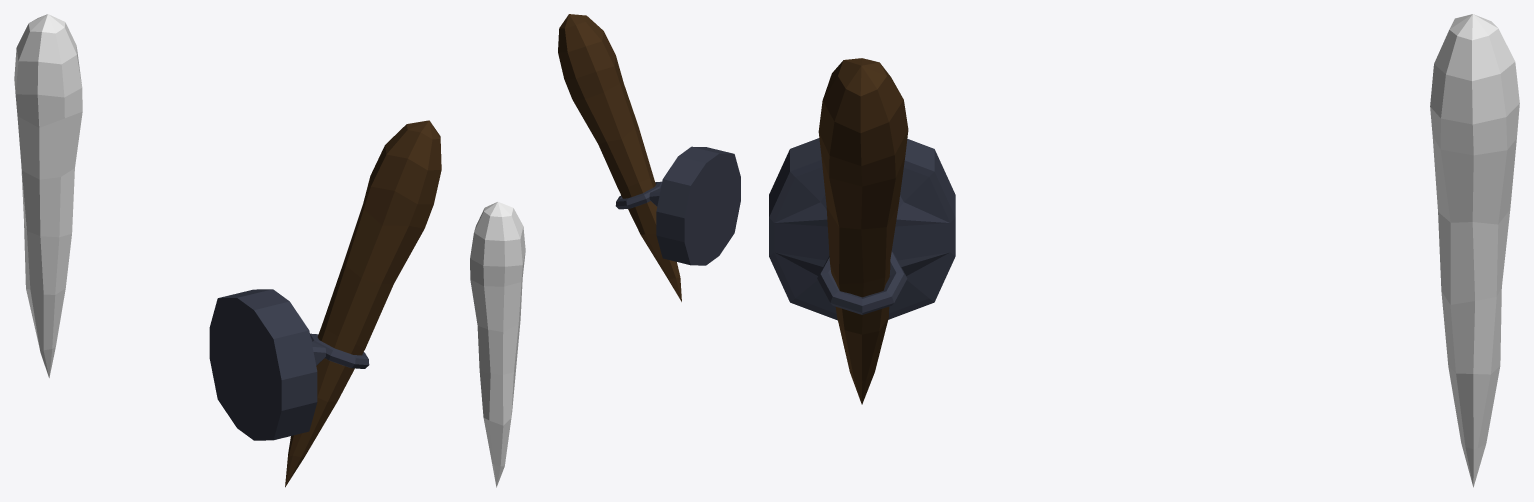
The model's file is WallTorchV1.fbx.
3 renders of one model, left to right at view 1: azimuth 30°, elevation 25°; view 2: azimuth 150°, elevation 25°; view 3: azimuth 270°, elevation 25°, orthographic. The views are drawn at different scales.
Parts seen in each view (by area): view 1: Cube, Cone.001; view 2: Cube, Cone.001; view 3: Cube, Cone.001.
Boxes of the visible parts, x1,y1,x2,y2 form: Cube: (209, 120, 441, 487); Cone.001: (14, 14, 82, 377); Cube: (558, 14, 740, 301); Cone.001: (470, 202, 525, 487); Cube: (769, 58, 955, 404); Cone.001: (1430, 14, 1519, 487).
Bounding box in the file's own units: 312 × 607 × 806.
